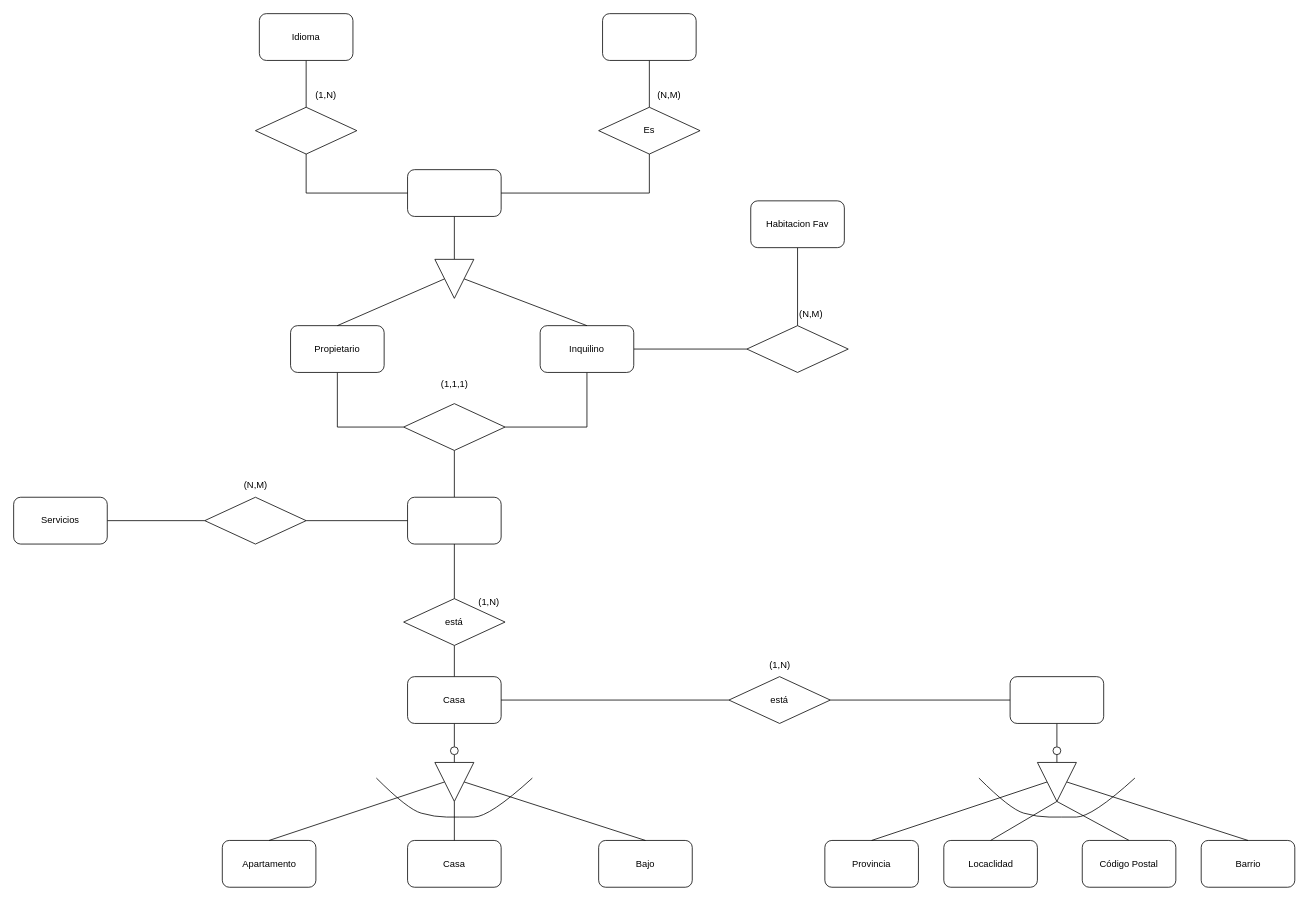
Image size: 1309x901. Some labels were removed from this diagram. The centre of each missing label's shape, as x and y in pixels:
"Alquila" goes at point 454,426.
"Habitacion" goes at point 454,520.
"Habla" goes at point 306,130.
"Ofrece" goes at point 255,520.
"Sexo" goes at point 649,36.
"TIene" goes at point 797,348.
"Ubicacion" goes at point 1056,699.
"Usuario" goes at point 454,192.
